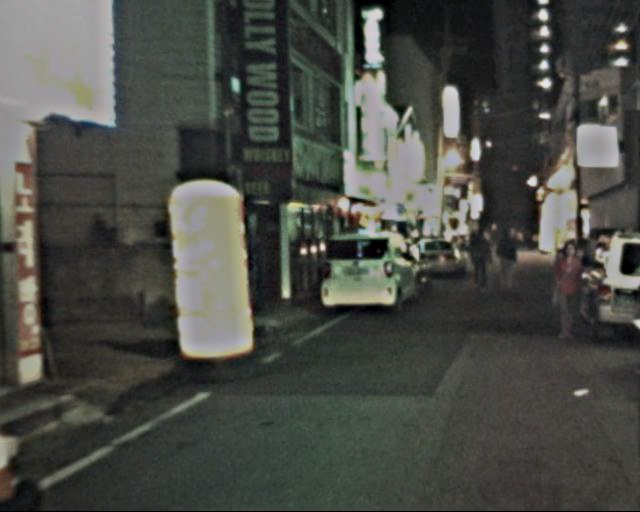person: (549, 241, 590, 339), (467, 230, 501, 297), (494, 230, 527, 297)
